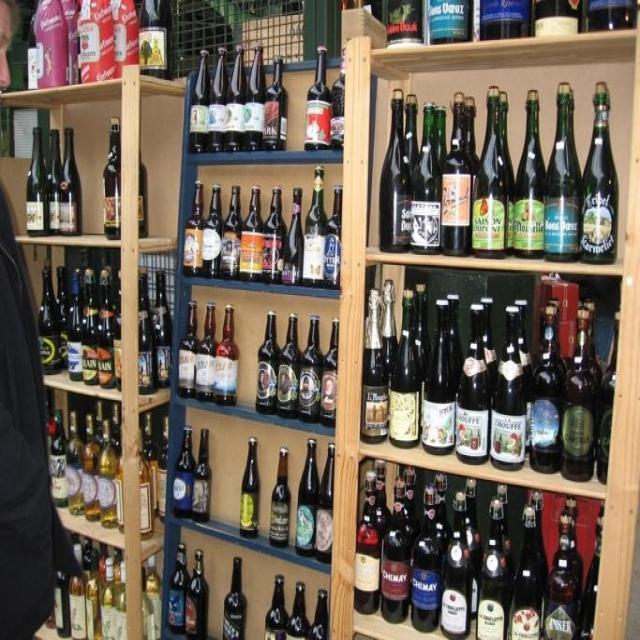Glass: (360, 277, 618, 483), (374, 76, 623, 262), (359, 486, 596, 640), (186, 288, 337, 424), (176, 423, 336, 540), (180, 36, 344, 149), (179, 170, 336, 278), (9, 109, 121, 242), (167, 549, 325, 640), (24, 253, 119, 389), (42, 407, 130, 529), (46, 545, 121, 632)
